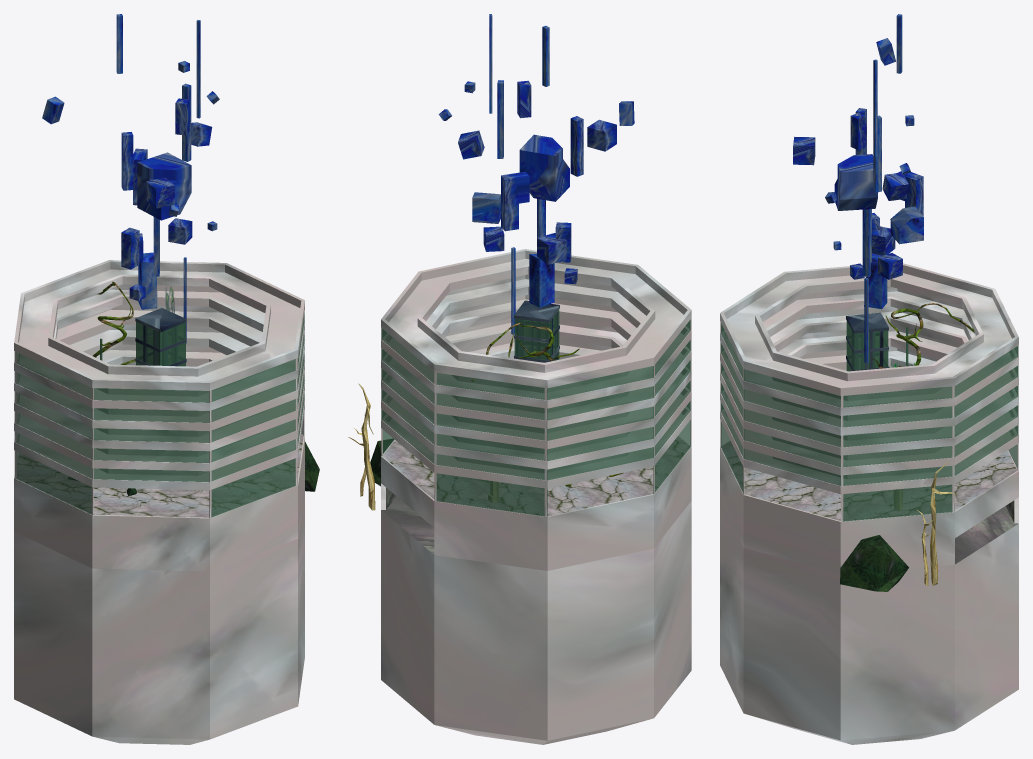
Rendered from TheOctagon.gltf.
The picture shows the model from 3 angles, left to right: view 1: azimuth 30°, elevation 25°; view 2: azimuth 150°, elevation 25°; view 3: azimuth 270°, elevation 25°; orthographic projection. The views are drawn at different scales.
Parts seen in each view (by area): view 1: TheOctagon; view 2: TheOctagon; view 3: TheOctagon.
Boxes of the visible parts, x1=… form: TheOctagon: x1=14, y1=14, x2=319, y2=744; TheOctagon: x1=348, y1=14, x2=691, y2=744; TheOctagon: x1=720, y1=14, x2=1018, y2=744.
Bounding box in the file's own units: 92.03 × 206 × 81.92.
315 materials, 314 textured.
